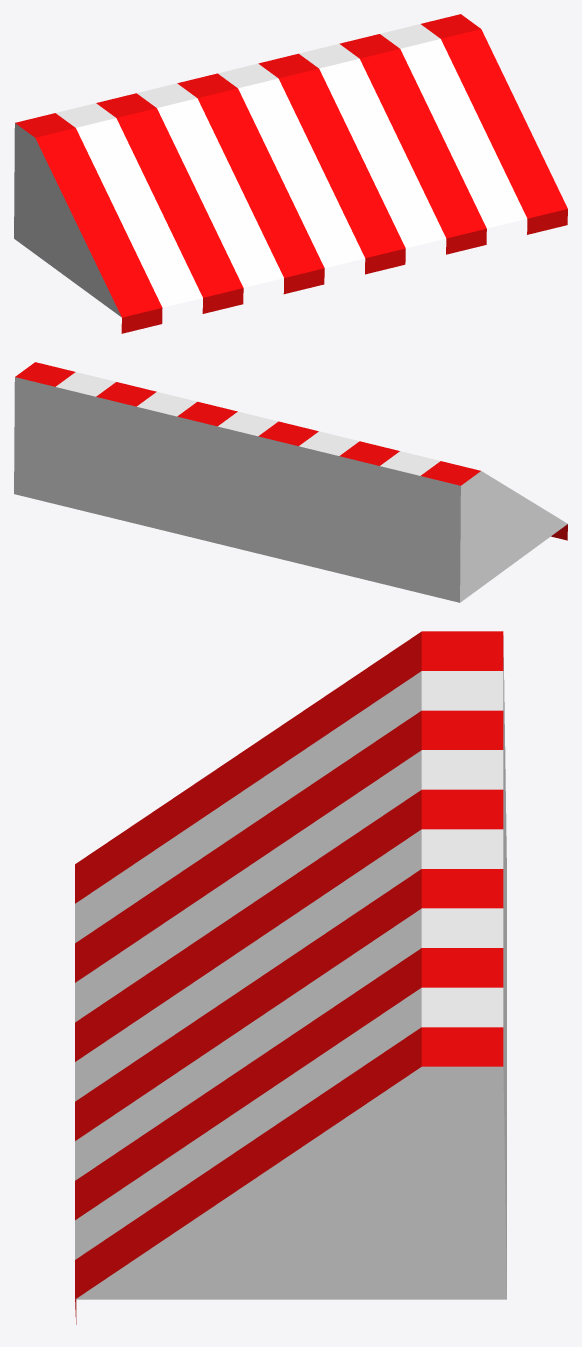
The model's file is Awningblend.fbx.
The picture shows the model from 3 angles, top to bottom: view 1: azimuth 30°, elevation 25°; view 2: azimuth 150°, elevation 25°; view 3: azimuth 270°, elevation 25°; orthographic projection. The views are drawn at different scales.
Parts seen in each view (by area): view 1: Plane; view 2: Plane; view 3: Plane.
Boxes of the visible parts, box(x1,y1,x2,y2) form: Plane: box(14, 14, 567, 333); Plane: box(14, 362, 567, 602); Plane: box(75, 631, 506, 1324).
Bounding box in the file's own units: 1200 × 342 × 503.
